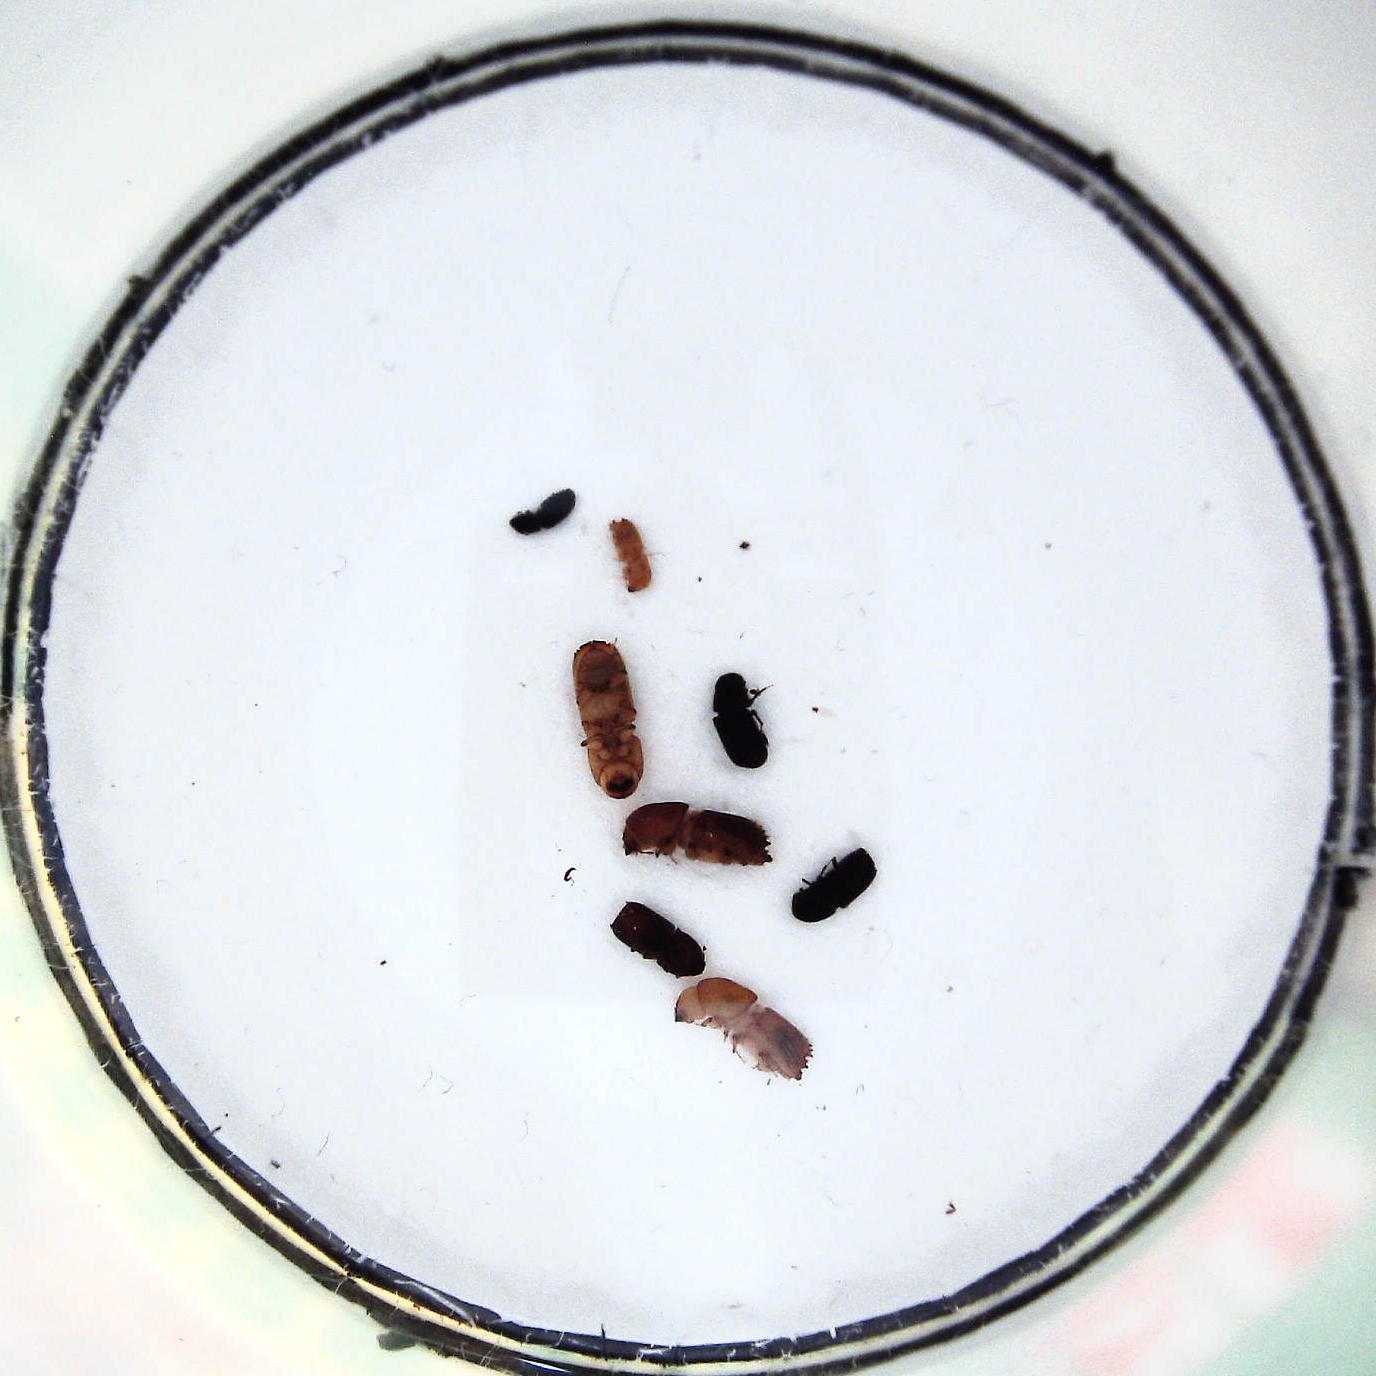Boerner: (672, 975, 815, 1082), (571, 641, 646, 800), (617, 801, 774, 869)
Linnaeus: (609, 898, 708, 977), (788, 848, 880, 924)
acuminatus: (605, 514, 653, 593)
armandi: (709, 670, 769, 772)
coleoptera: (509, 486, 578, 537)
